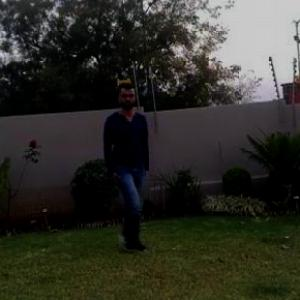follow: (97, 84, 153, 247)
